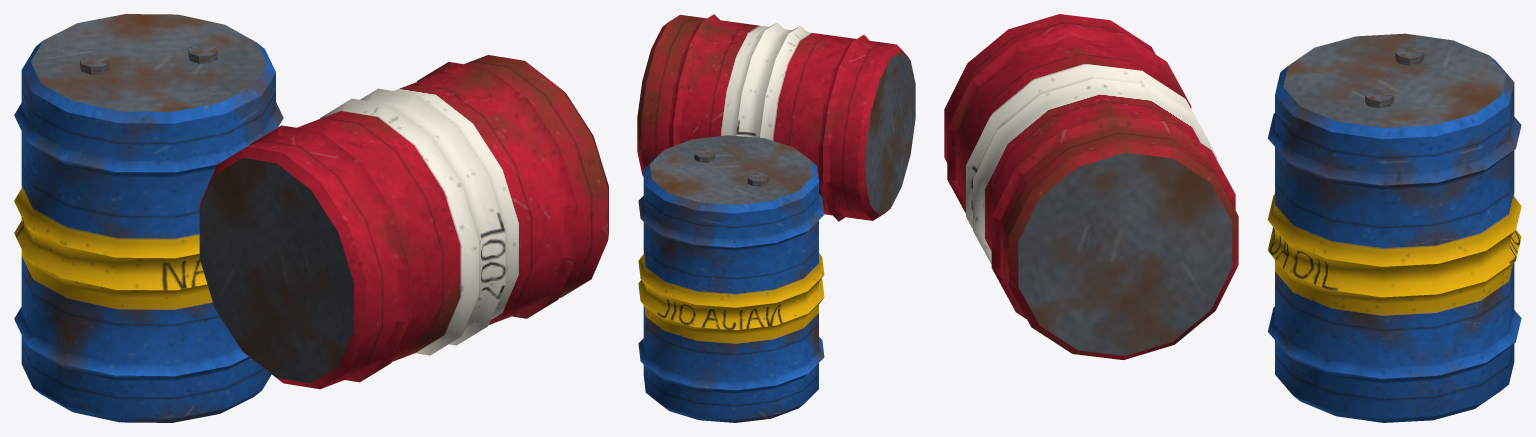
File: env_barrel.glb
The picture shows the model from 3 angles, left to right: view 1: azimuth 30°, elevation 25°; view 2: azimuth 150°, elevation 25°; view 3: azimuth 270°, elevation 25°; orthographic projection. The views are drawn at different scales.
Visible parts, largest first — view 1: env_barrel_body; view 2: env_barrel_body; view 3: env_barrel_body.
Boxes of the visible parts, x1,y1,x2,y2 form: env_barrel_body: (14,14,608,422); env_barrel_body: (637,14,915,422); env_barrel_body: (944,14,1521,422).
Size of the model in its own units: 0.7374 by 0.686 by 1.03.
1 material, 1 textured.
